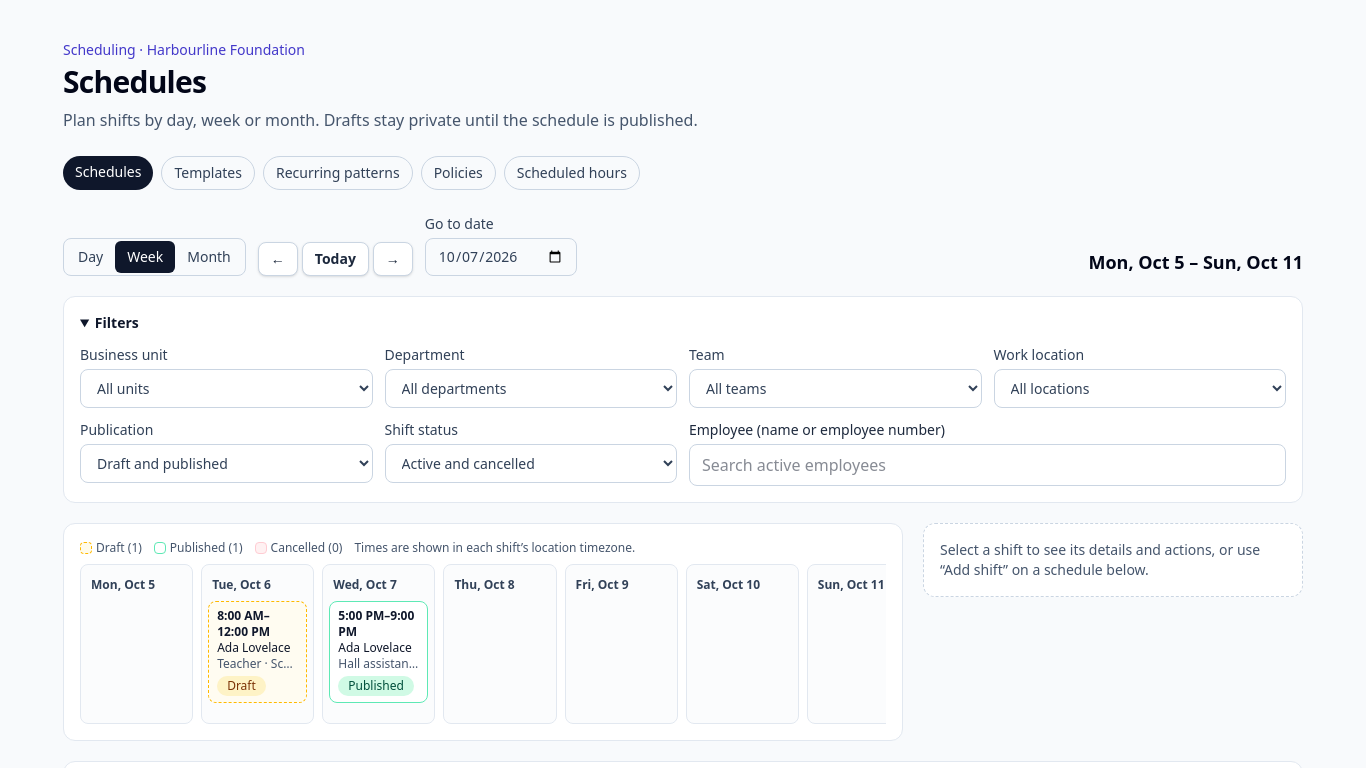
Scenario: SchedulesAdminPage › edits and deletes a draft shift
Later steps or results of the test are not shown.
Click the button with aria-label "Teacher, 2026-10-06": (258, 652) [208,601,307,703]
(page scrolled)
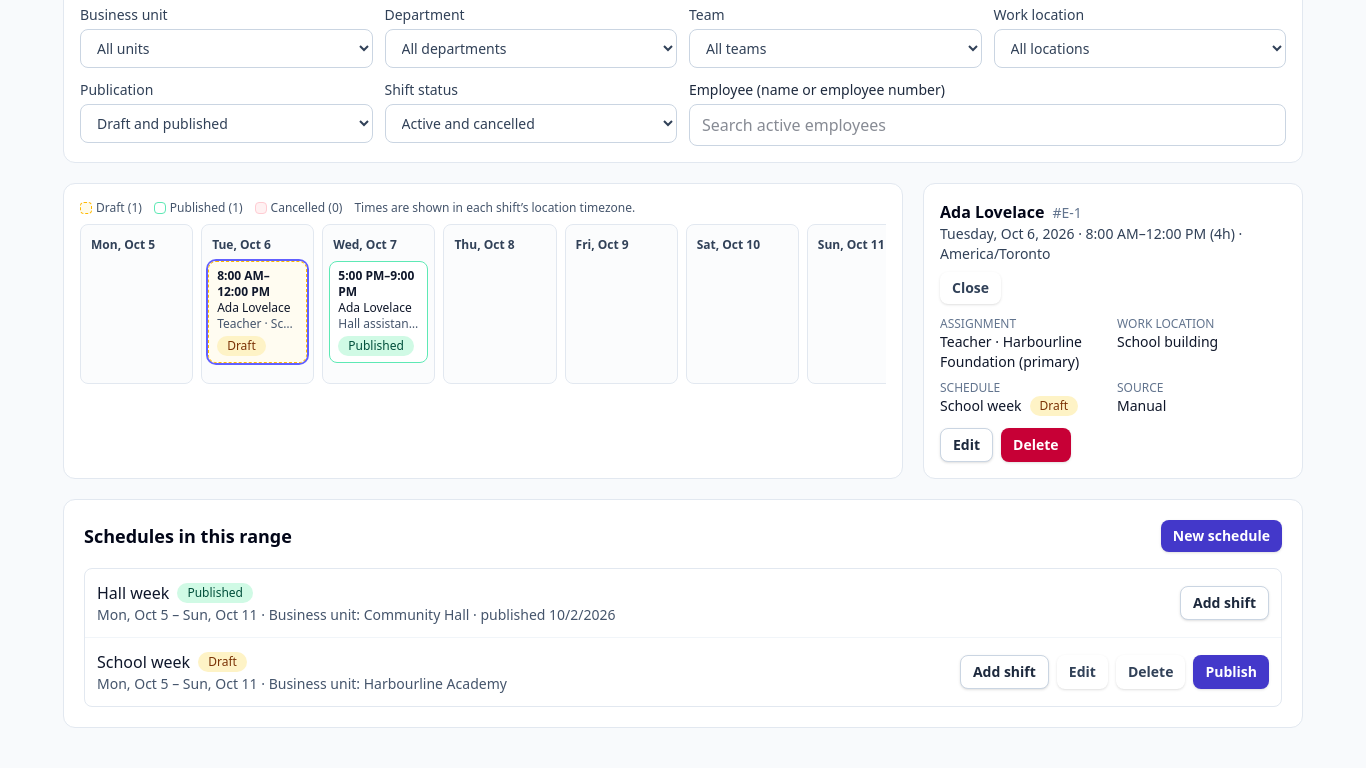
Click the button "Edit" below "Manual": (967, 445) [940,428,993,462]
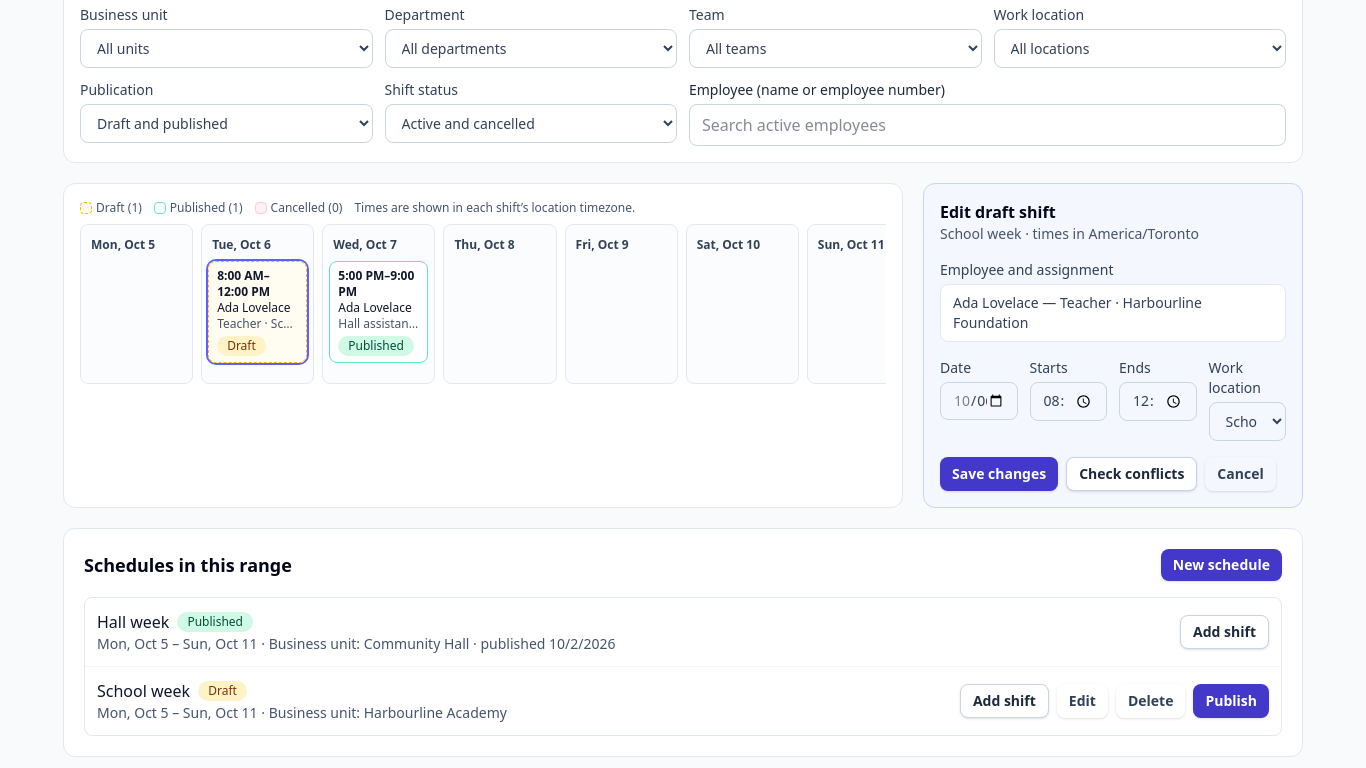
Now the time field labelled "Starts" holds "08:00", box [1030,382,1107,421]
